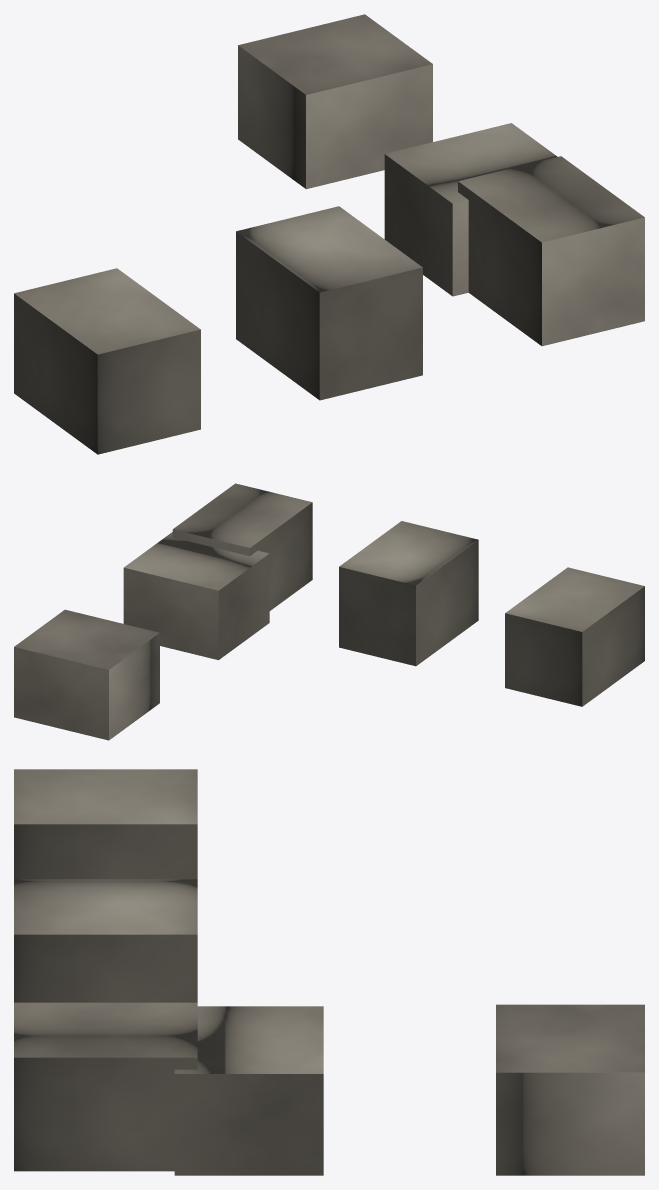
The model's file is Prop_ExteriorBorder_Corner_LOD1.gltf.
The picture shows the model from 3 angles, top to bottom: view 1: azimuth 30°, elevation 25°; view 2: azimuth 150°, elevation 25°; view 3: azimuth 270°, elevation 25°; orthographic projection. The views are drawn at different scales.
Visible parts, largest first — view 1: Prop_ExteriorBorder_Corner_LOD1; view 2: Prop_ExteriorBorder_Corner_LOD1; view 3: Prop_ExteriorBorder_Corner_LOD1.
Boxes of the visible parts, bbox=[...] form: Prop_ExteriorBorder_Corner_LOD1: bbox=[14, 14, 644, 454]; Prop_ExteriorBorder_Corner_LOD1: bbox=[14, 483, 644, 740]; Prop_ExteriorBorder_Corner_LOD1: bbox=[14, 769, 644, 1175].
Bounding box in the file's own units: 0.7 × 0.13 × 0.6289.
1 material, 1 textured.
